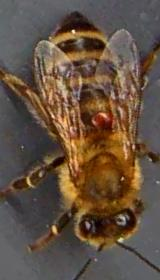varroa_mite: (85, 101, 114, 130)
